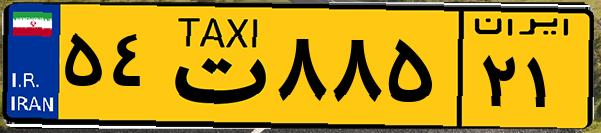1: (525, 38, 570, 115)
2: (475, 38, 525, 113)
4: (110, 28, 158, 98)
5: (385, 28, 445, 110), (57, 26, 110, 100)
8: (270, 28, 330, 110), (330, 28, 385, 110)
ت: (158, 12, 270, 120)
